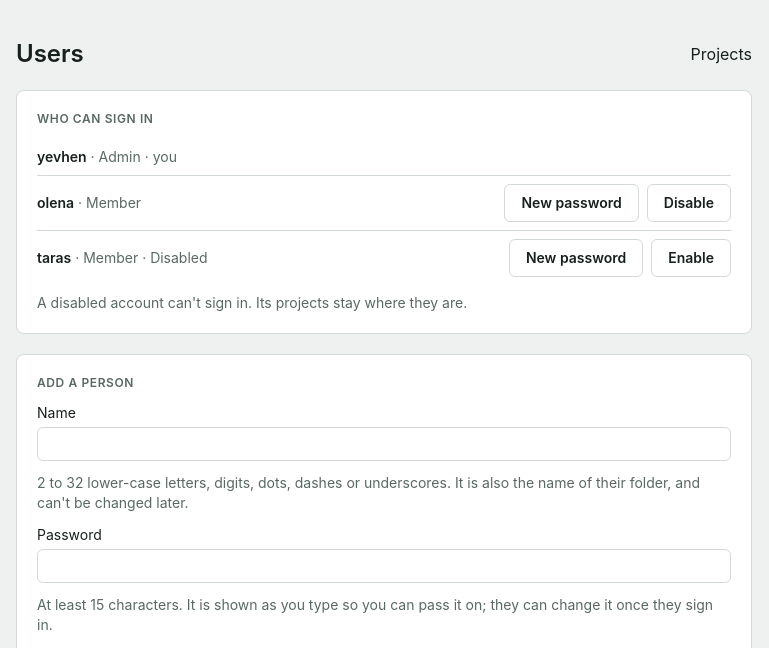
Test: Users › adds a person, as a member unless told otherwise
Type "Marko" into the field labelled "Name" at (384, 444), box [37, 427, 731, 461]
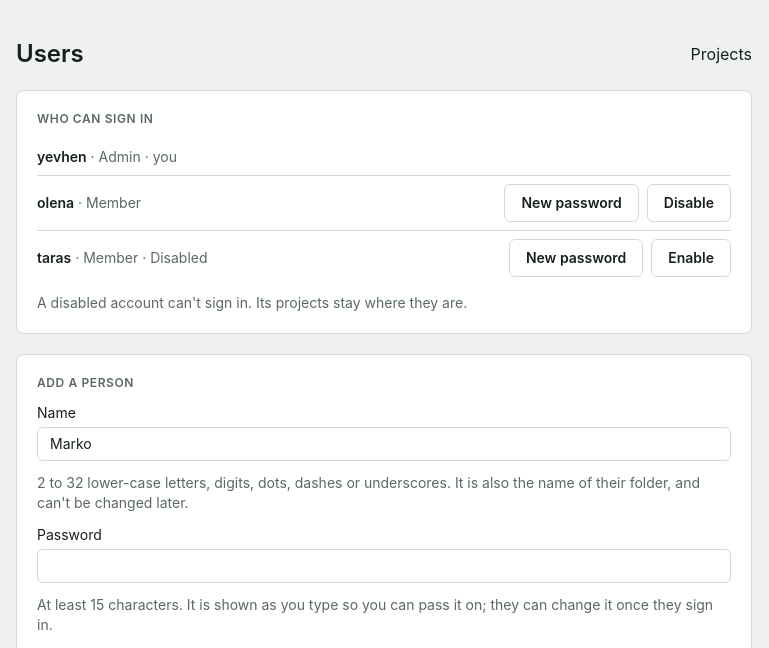
Type "we walked to the lake in may" into the field labelled "Password" at (384, 566), box [37, 549, 731, 583]
(page scrolled)
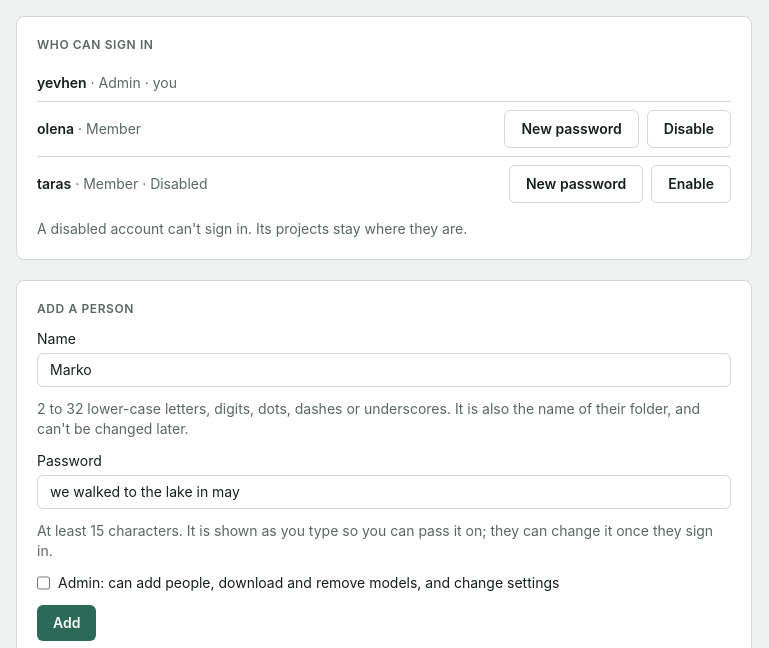
Click the button "Add" at (67, 623), box [37, 605, 96, 641]
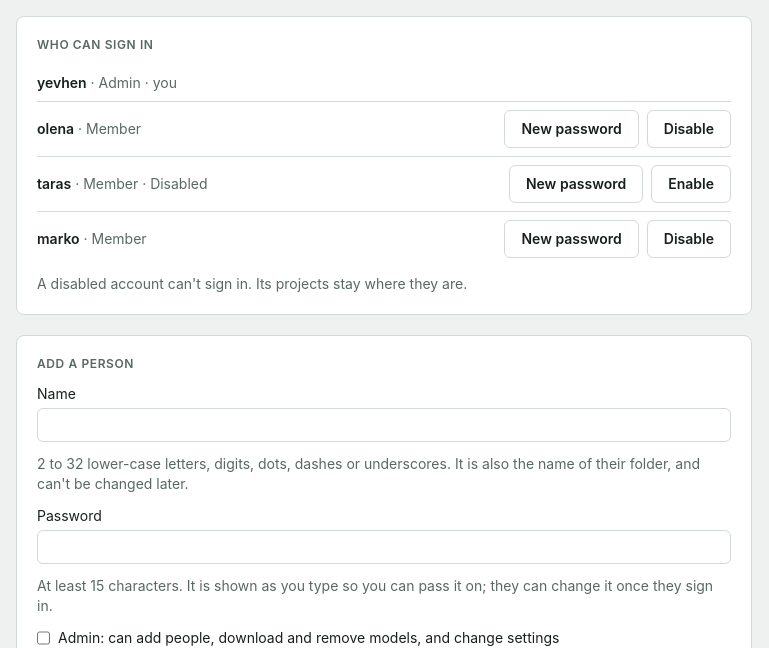
Expected: the text "· Member" next to "marko" is shown, [92, 230, 147, 247]
Expected: the field labelled "Name" is empty, [37, 408, 731, 442]
Expected: the field labelled "Password" is empty, [37, 530, 731, 564]
